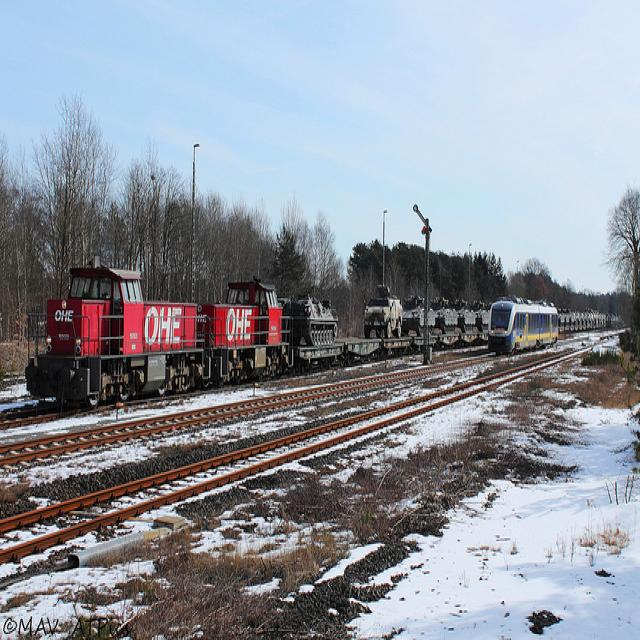Vehicle: (363, 284, 403, 338)
